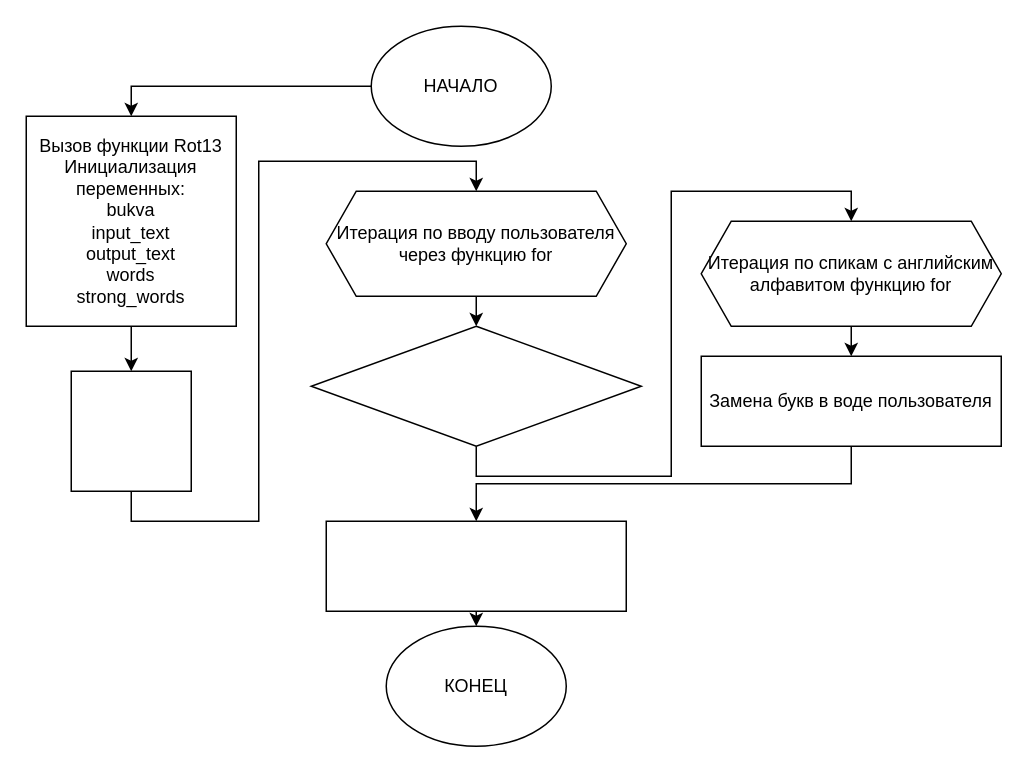
Image size: 1028x773. Some labels were removed from this diagram. The shapes that lost their labels are listed below. From the top down, each one's box as (x1, y1, x2, y2) in pixels, then its label:
(310, 325, 641, 446): проверка на заглавность буквы
(70, 370, 191, 491): Очищение строки в HTML коде
(325, 520, 626, 611): вывод зашифрованной строки
